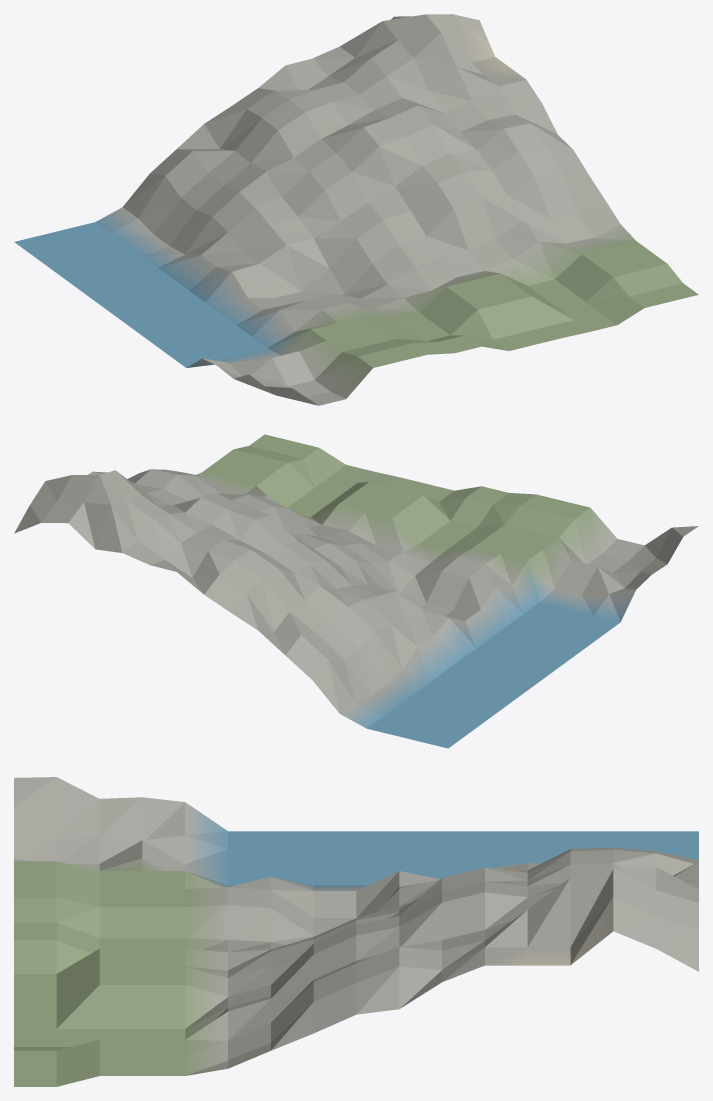
3 renders of one model, top to bottom at view 1: azimuth 30°, elevation 25°; view 2: azimuth 150°, elevation 25°; view 3: azimuth 270°, elevation 25°, orthographic. The views are drawn at different scales.
Size of the model in its own units: 32 by 11.11 by 32.
